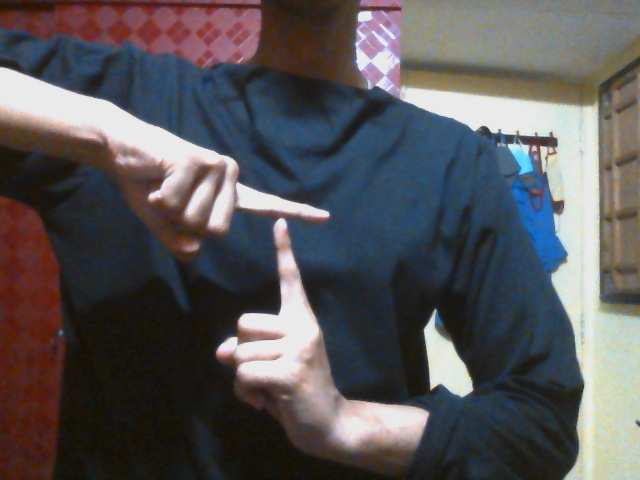T: (153, 147, 359, 453)
